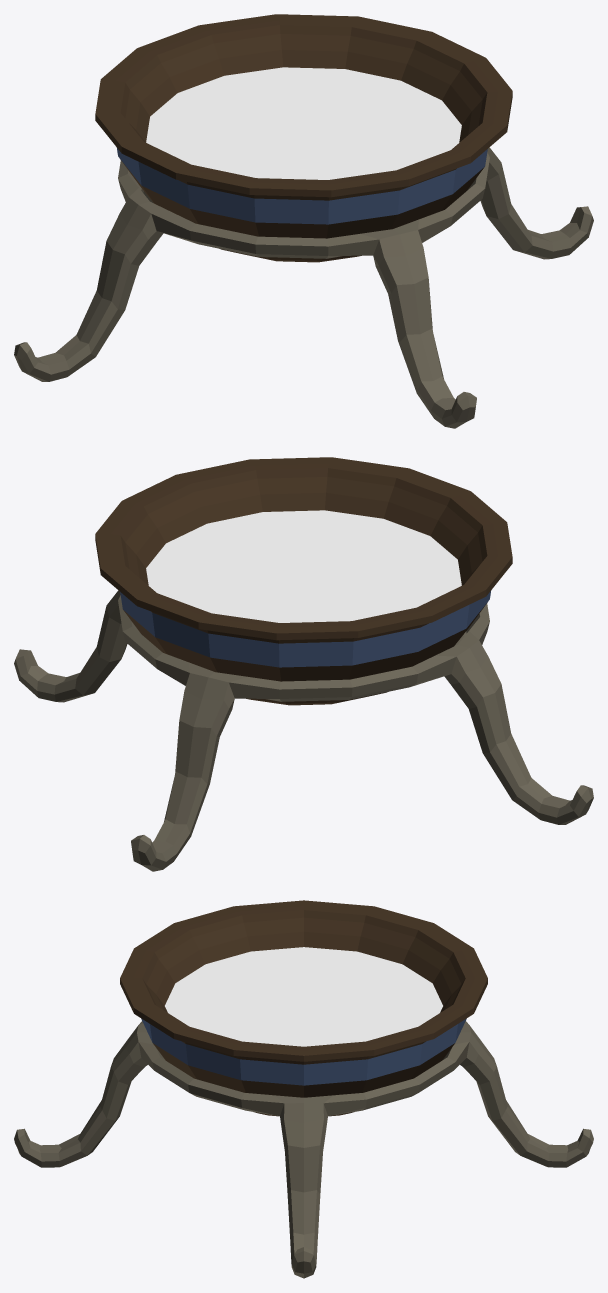
The model's file is durability_add.gltf.
3 views of the same model, one above another, from view 1: azimuth 30°, elevation 25°; view 2: azimuth 150°, elevation 25°; view 3: azimuth 270°, elevation 25° (orthographic). The views are drawn at different scales.
Visible parts, largest first — view 1: bowl.002; view 2: bowl.002; view 3: bowl.002.
Boxes of the visible parts, x1,y1,x2,y2 form: bowl.002: (14, 14, 593, 428); bowl.002: (14, 457, 593, 871); bowl.002: (14, 900, 593, 1278).
Bounding box in the file's own units: 4.36 × 1.57 × 4.36.
